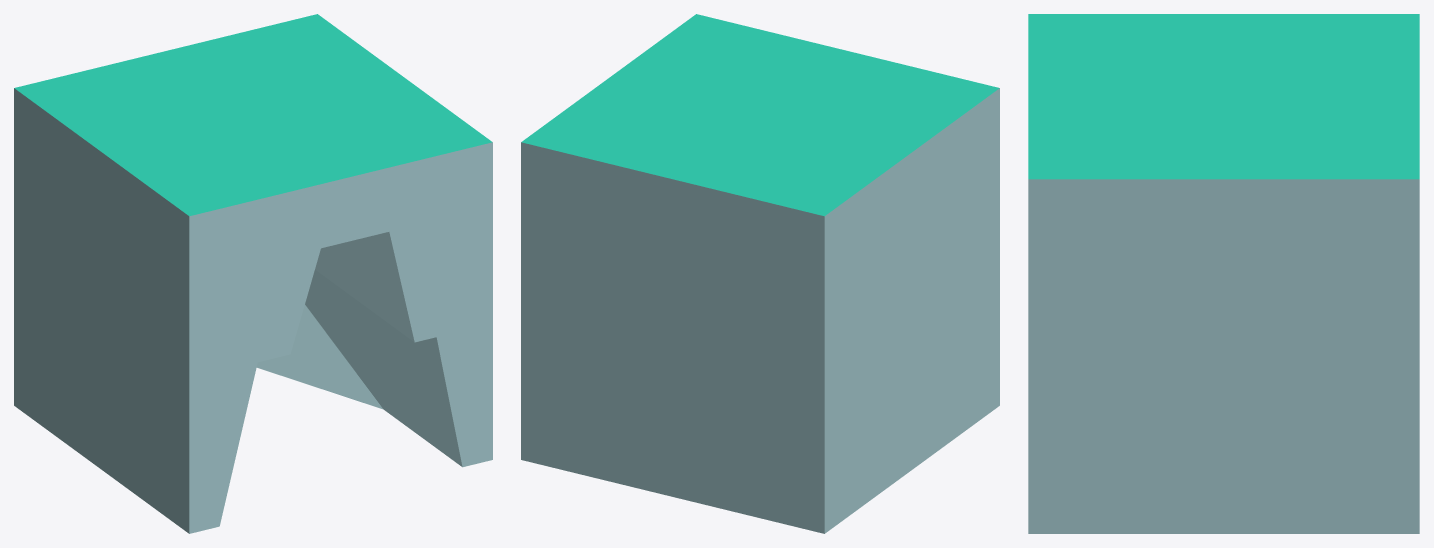
The model's file is cliff_blockCave_stone.dae.
3 renders of one model, left to right at view 1: azimuth 30°, elevation 25°; view 2: azimuth 150°, elevation 25°; view 3: azimuth 270°, elevation 25°, orthographic. The views are drawn at different scales.
Visible parts, largest first — view 1: cliff_blockCave_stone; view 2: cliff_blockCave_stone; view 3: cliff_blockCave_stone.
Boxes of the visible parts, x1,y1,x2,y2 form: cliff_blockCave_stone: (14, 14, 492, 533); cliff_blockCave_stone: (521, 14, 999, 533); cliff_blockCave_stone: (1028, 14, 1419, 533).
Bounding box in the file's own units: 1 × 1 × 1.
